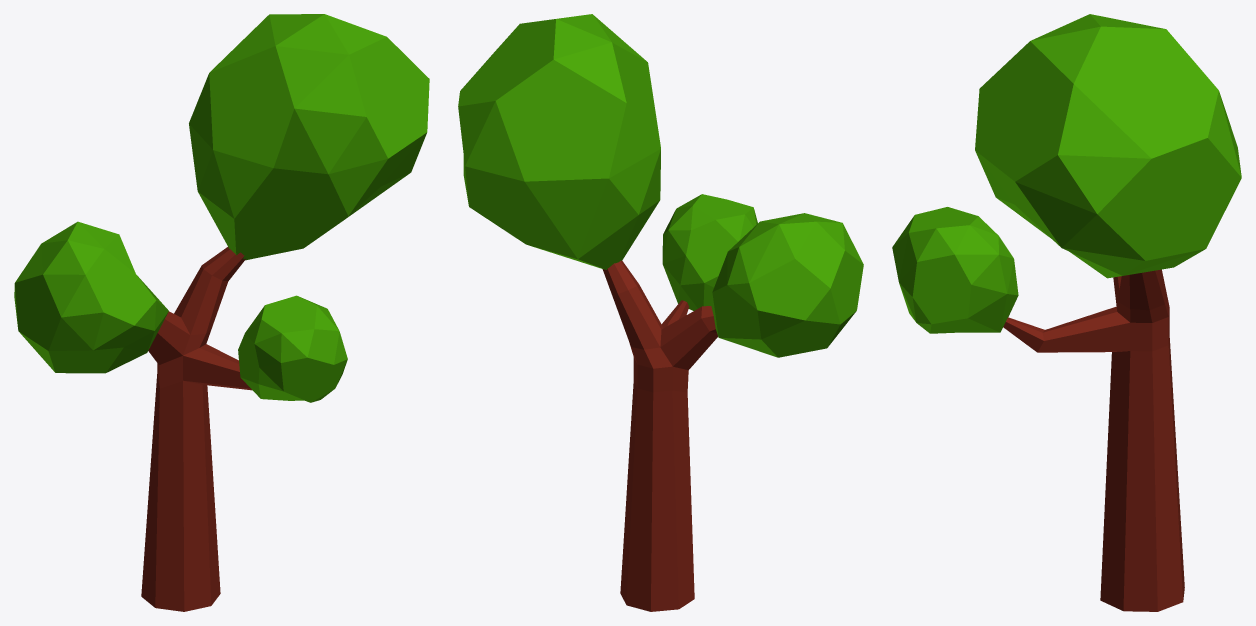
Rendered from low_poly_tree4.fbx.
The picture shows the model from 3 angles, left to right: view 1: azimuth 30°, elevation 25°; view 2: azimuth 150°, elevation 25°; view 3: azimuth 270°, elevation 25°; orthographic projection. The views are drawn at different scales.
Parts seen in each view (by area): view 1: Tree2.001; view 2: Tree2.001; view 3: Tree2.001.
Part boxes in pixels (left/top/right/bottom): Tree2.001: left=14, top=14, right=429, bottom=611; Tree2.001: left=458, top=14, right=863, bottom=611; Tree2.001: left=892, top=14, right=1241, bottom=611.
Bounding box in the file's own units: 383 × 513 × 256.
